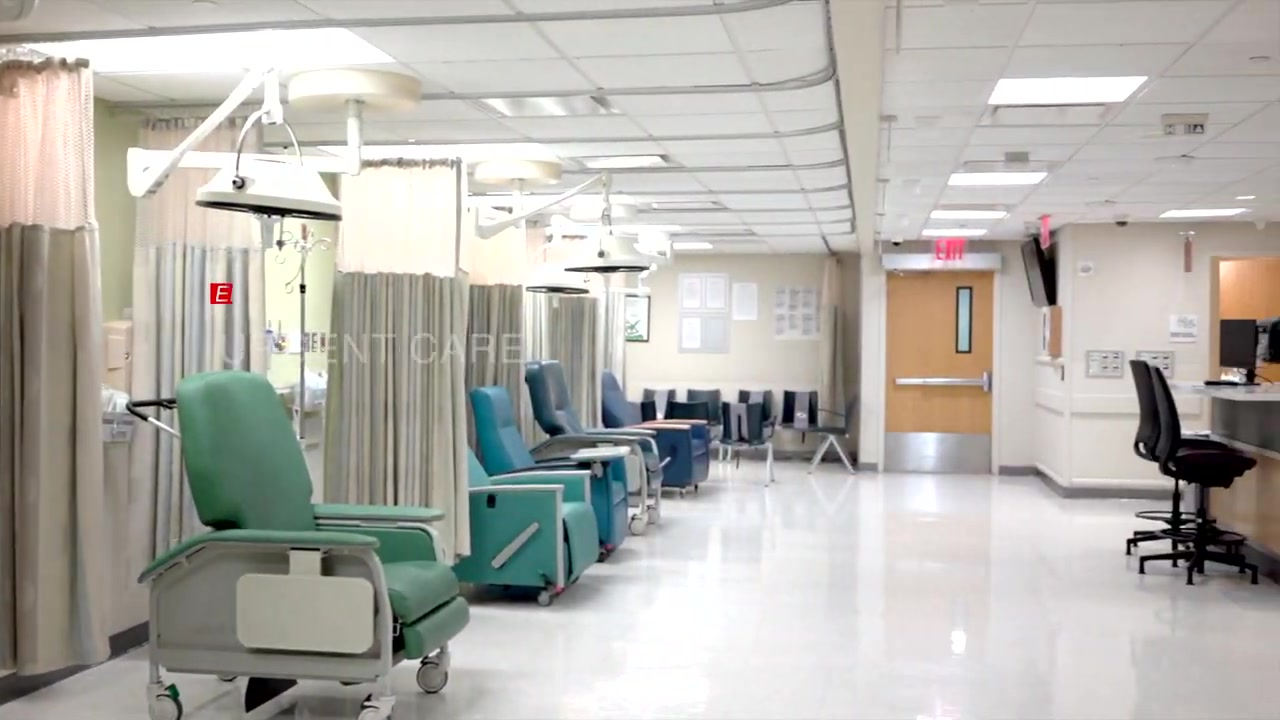TV: (1019, 239, 1056, 307)
chair: (1138, 365, 1259, 585), (1125, 359, 1243, 555), (720, 402, 778, 489), (807, 396, 860, 475), (735, 389, 774, 445), (779, 391, 819, 442), (685, 390, 721, 440), (664, 398, 709, 421), (643, 388, 677, 417), (626, 401, 656, 422)
computer: (1218, 319, 1258, 368)
curtain: (126, 109, 283, 578), (2, 48, 106, 678), (322, 158, 472, 566), (460, 208, 525, 458), (530, 295, 599, 450)
iv_pole: (275, 238, 332, 441)
push_latch: (895, 375, 987, 387)
sofa: (134, 372, 471, 720), (472, 387, 636, 562), (522, 360, 671, 536), (450, 445, 599, 605), (600, 372, 711, 498)
surgical_light: (191, 149, 344, 221), (564, 233, 651, 273), (527, 256, 594, 296)
